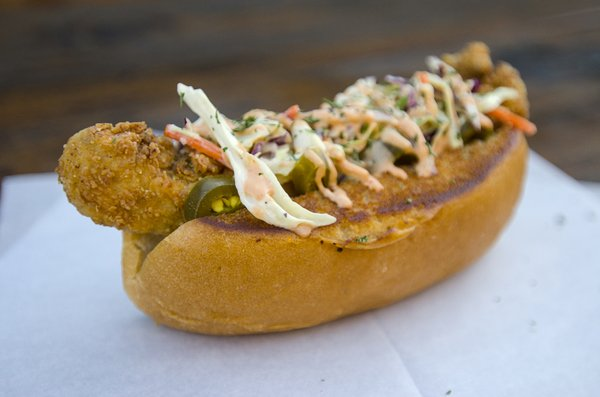soup: (51, 53, 540, 336)
